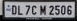character: (39, 4, 46, 15), (24, 4, 30, 15), (54, 4, 60, 15), (60, 4, 66, 15), (66, 4, 72, 15), (17, 5, 23, 15), (31, 4, 37, 14), (48, 5, 54, 15), (11, 5, 16, 14)
